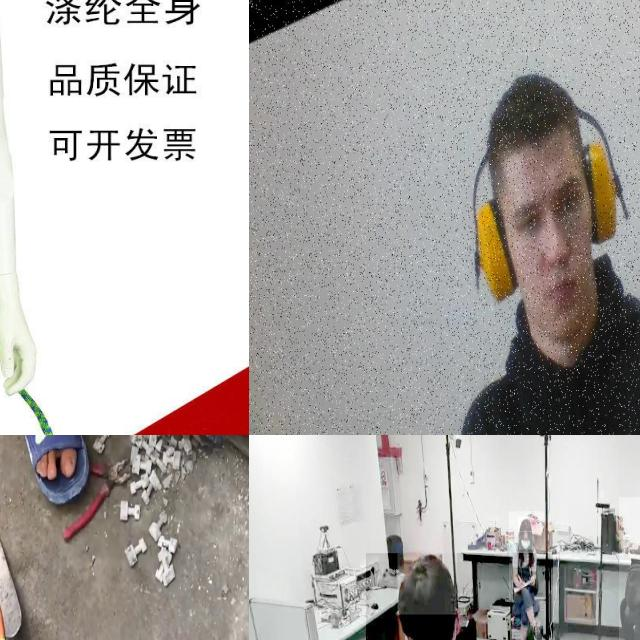Ear-protection: (445, 49, 638, 393)
Sandals: (20, 435, 88, 512)
face_mask: (519, 531, 533, 549)
head_nohelmet: (398, 553, 457, 615), (518, 516, 532, 532)
person: (366, 553, 553, 640), (509, 511, 545, 640), (619, 497, 640, 640)
shoes: (531, 623, 542, 640)
